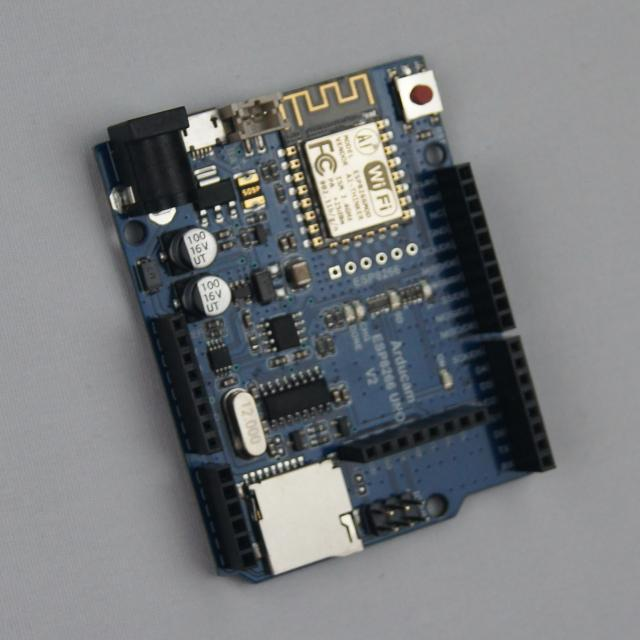Arduino Uno Camera Shield: (96, 57, 555, 582)
